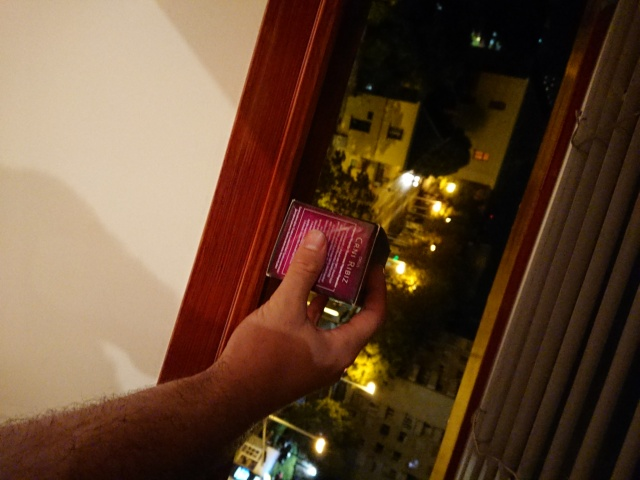Franck Black Currant Tea 60g: (262, 195, 393, 310)
